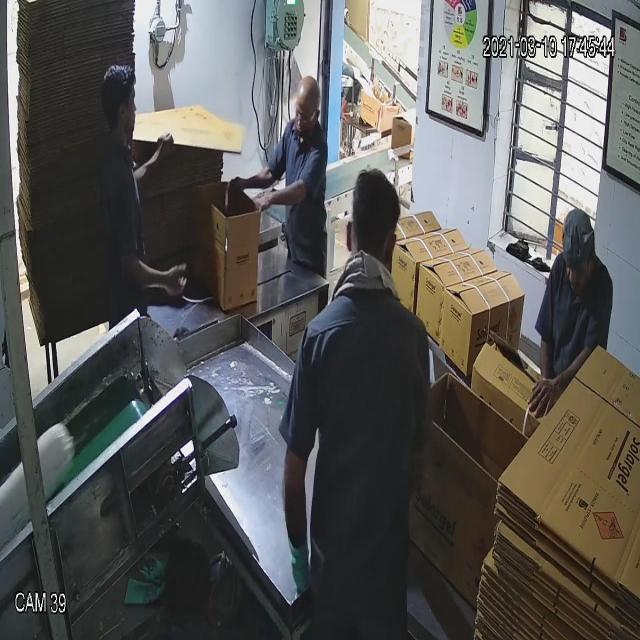gloves: (279, 444, 322, 616)
no-gloves: (518, 336, 604, 434), (107, 226, 188, 314), (130, 130, 180, 197), (244, 180, 311, 222)
